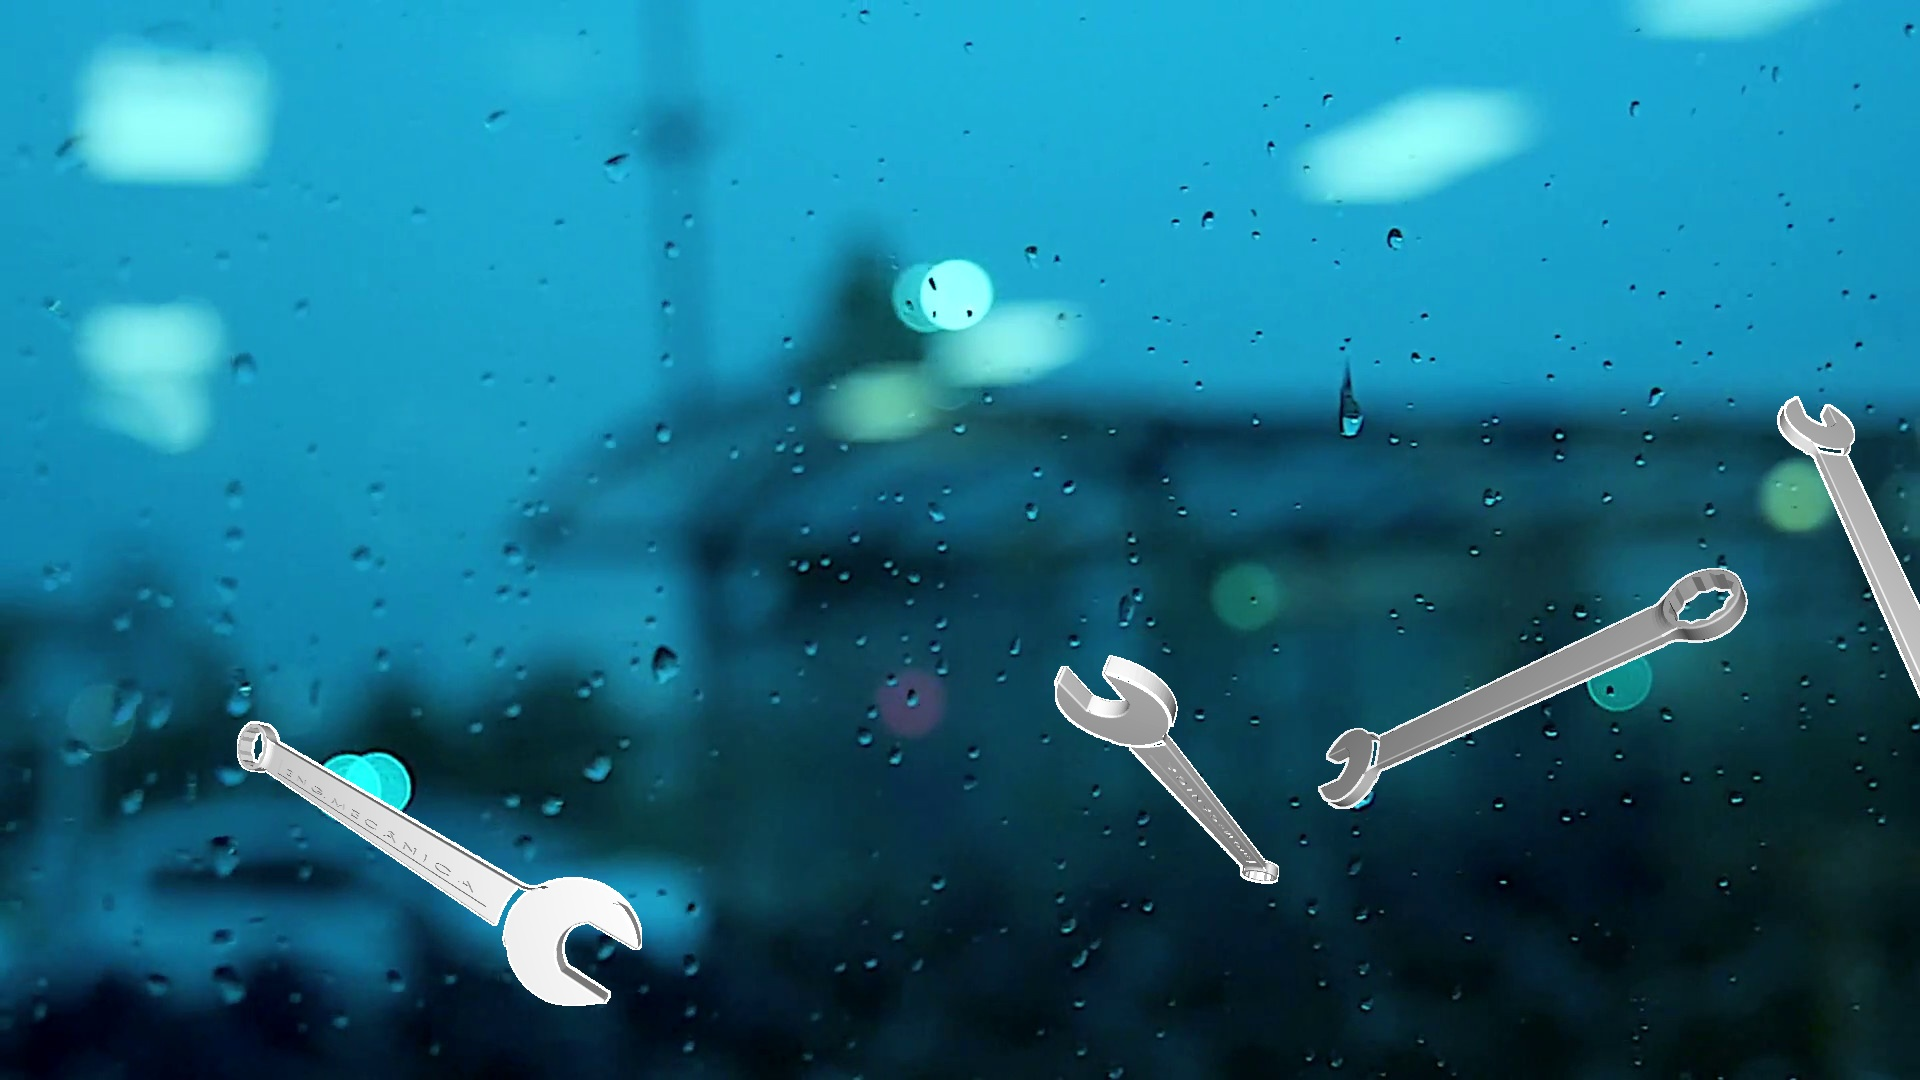Mixed Key: (237, 721, 641, 1005), (1317, 568, 1747, 808), (1054, 655, 1278, 884), (1778, 396, 1919, 698)
